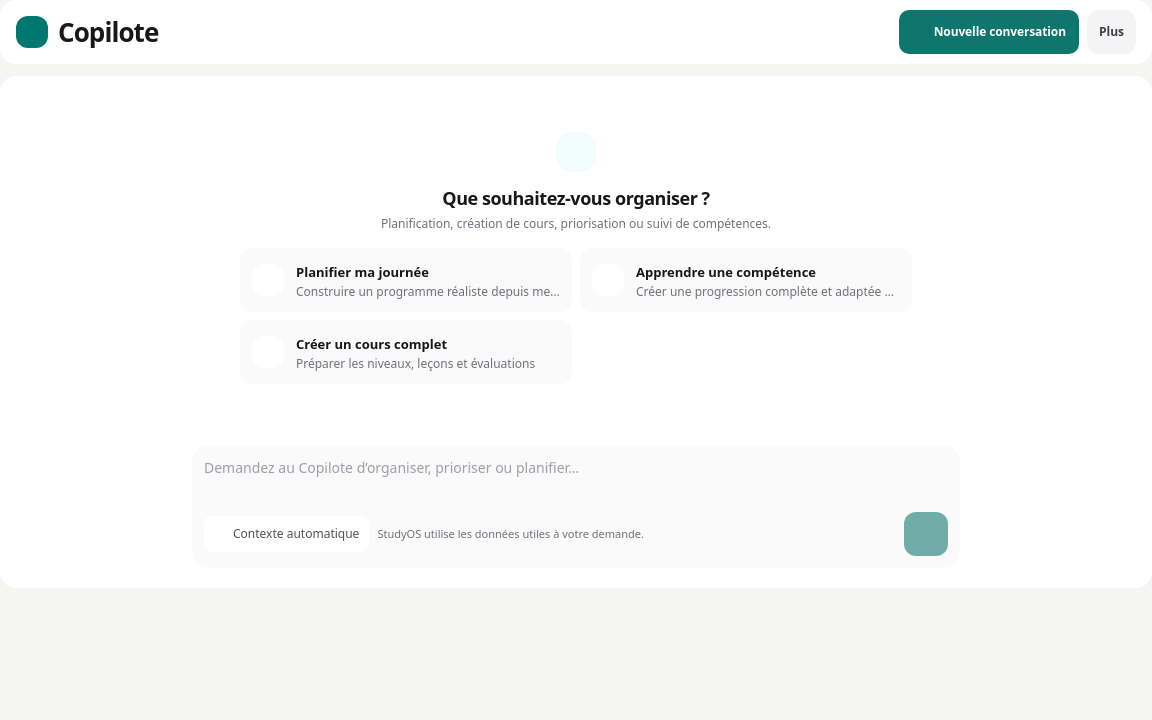
Scenario: AiCoachPage › affiche immédiatement le message utilisateur et les étapes de réflexion du Copilote pendant l’attente réseau
This screenshot has width=1152, height=720.
Later steps or results of the test are not shown.
Type "Organise ma semaine" into the text box named "Votre message au Copilote" at [576, 478], box [204,458,948,498]
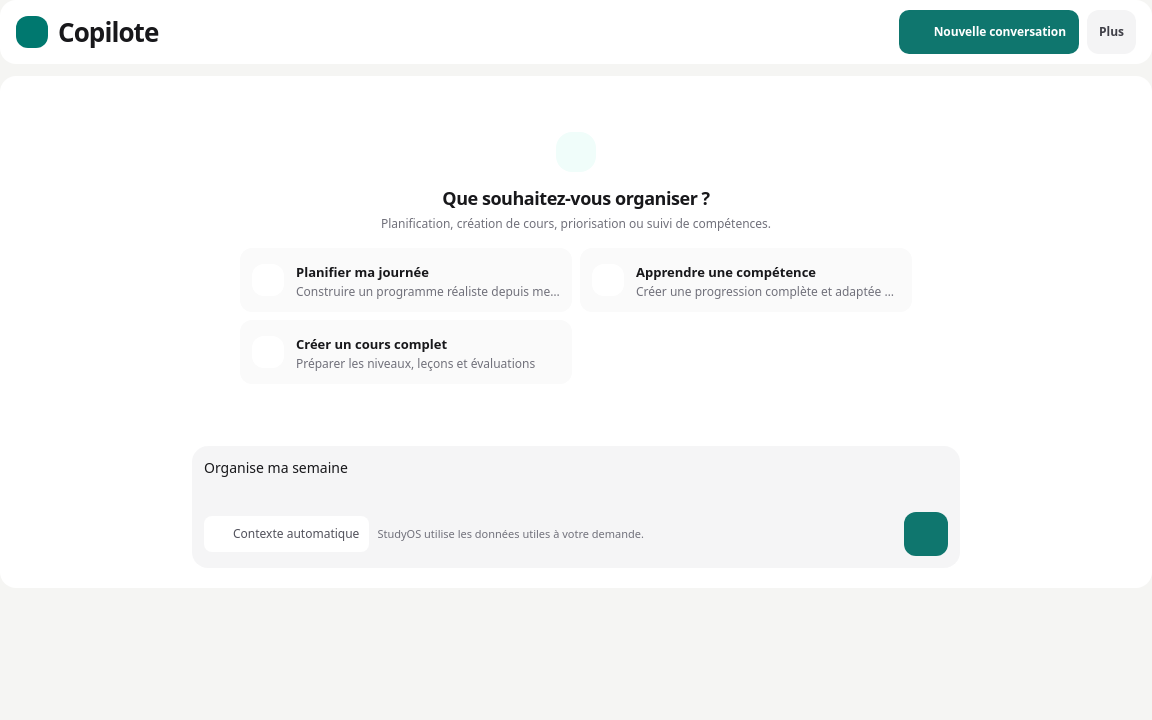
Click the button named "Envoyer au Copilote" at [926, 534], box [904,512,948,556]
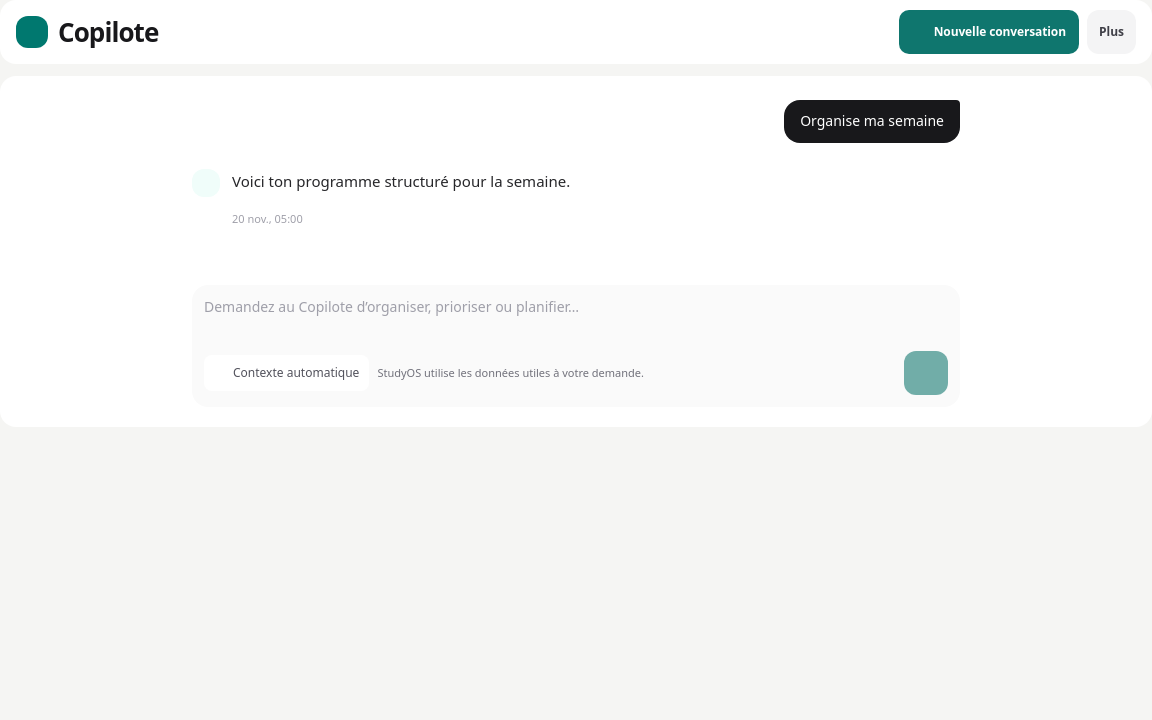
Result: the text box named "Votre message au Copilote" is empty at [204,297,948,337]
Result: the text "Organise ma semaine" is shown at [800,110,944,133]
Result: the text "Voici ton programme structuré pour la semaine." is shown at [232,171,570,191]
Click the heading "Plus" at [1112, 32], box [1087,10,1136,54]
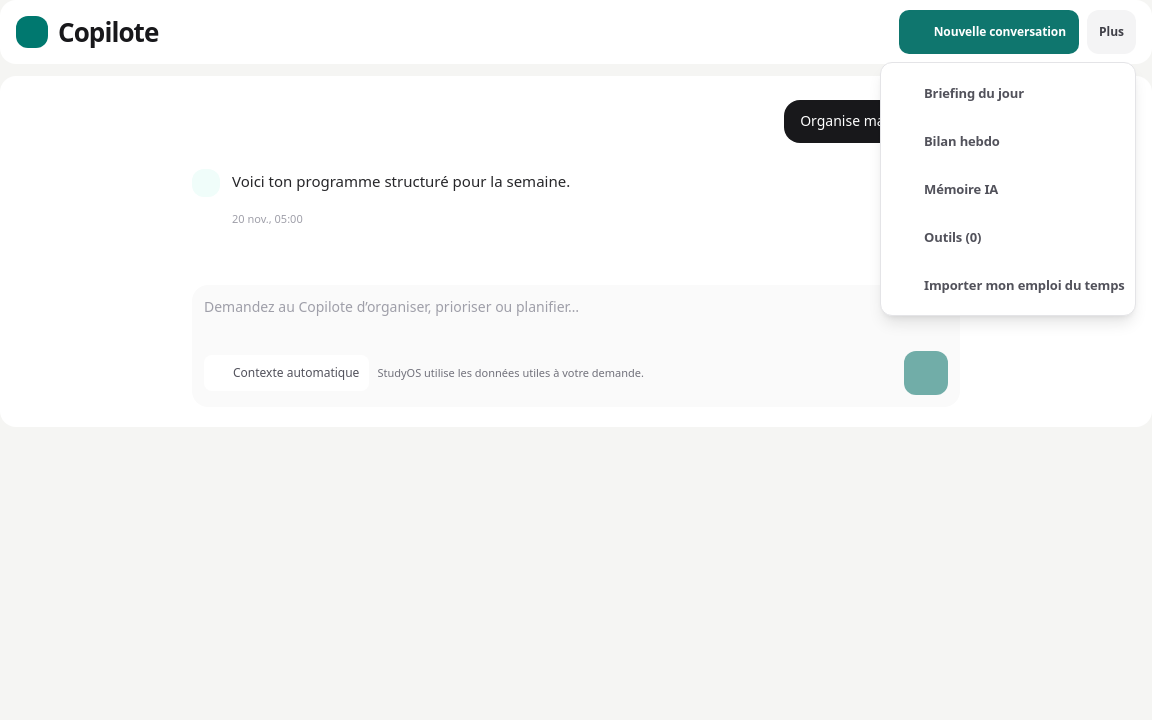
Click the button "Importer mon emploi du temps" at [1008, 285], box [889,263,1127,307]
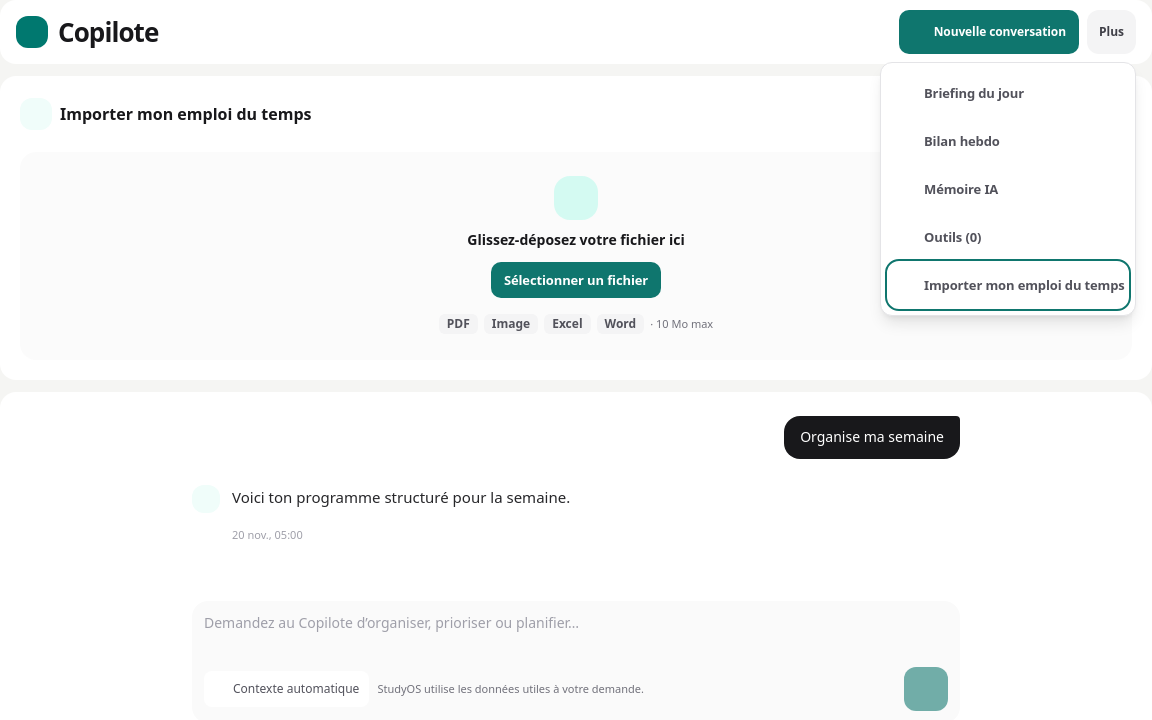
Result: the element "Importer mon emploi du temps" is shown at [0,76,1151,380]
